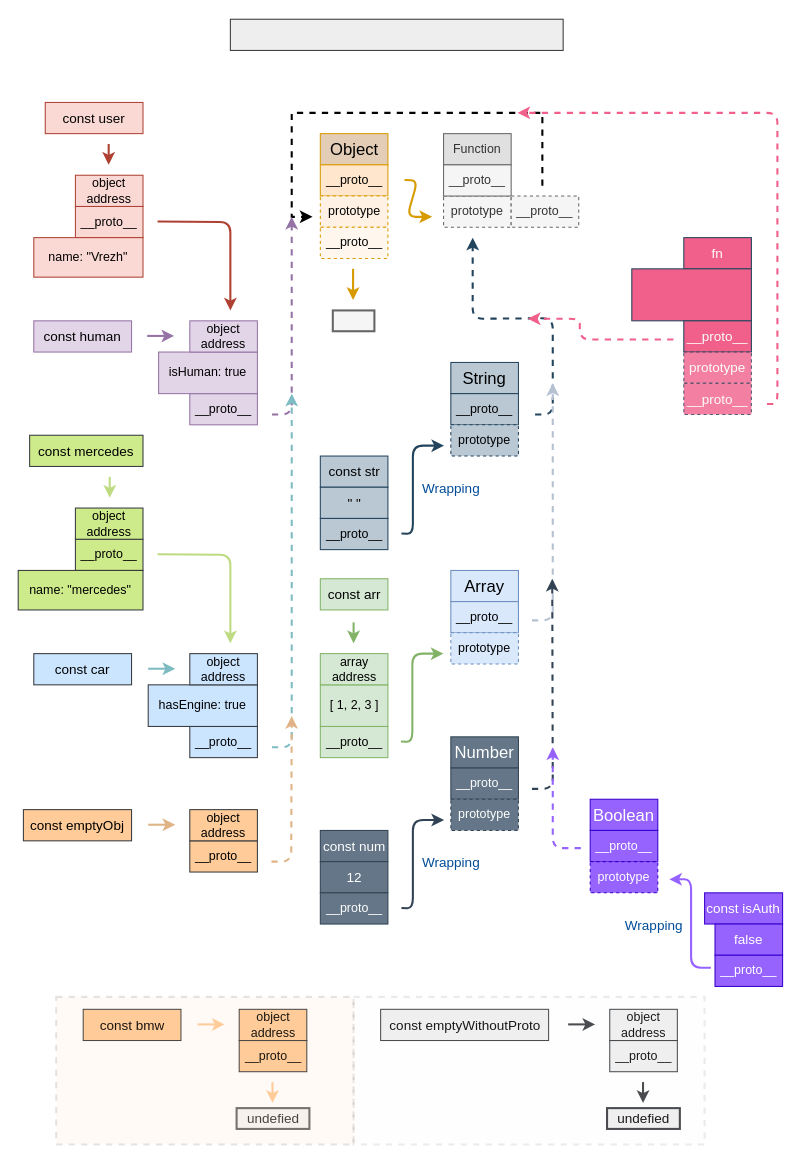
Some shapes in this 805 by 1164 pixel diagram are drawn without their labels. Here are the shapes that lost their labels. From the top down, the centre of each, then its label:
At point 396,34: "PROTOTYPE DIAGRAM".
At point 691,294: "console.log('Hello world!')".
At point 353,320: "null".
